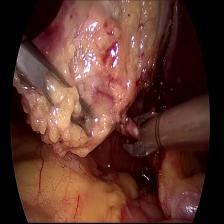Clipper: (120, 105, 164, 160)
Grasper: (17, 41, 100, 144)
